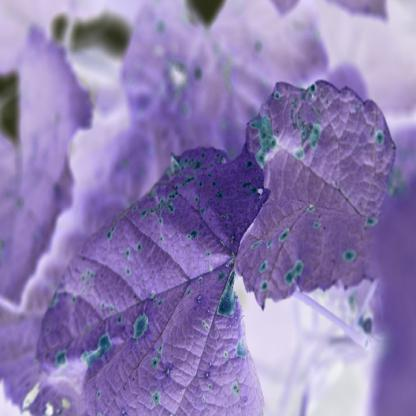grape leaf black rot: (31, 121, 274, 415), (235, 74, 410, 325)
